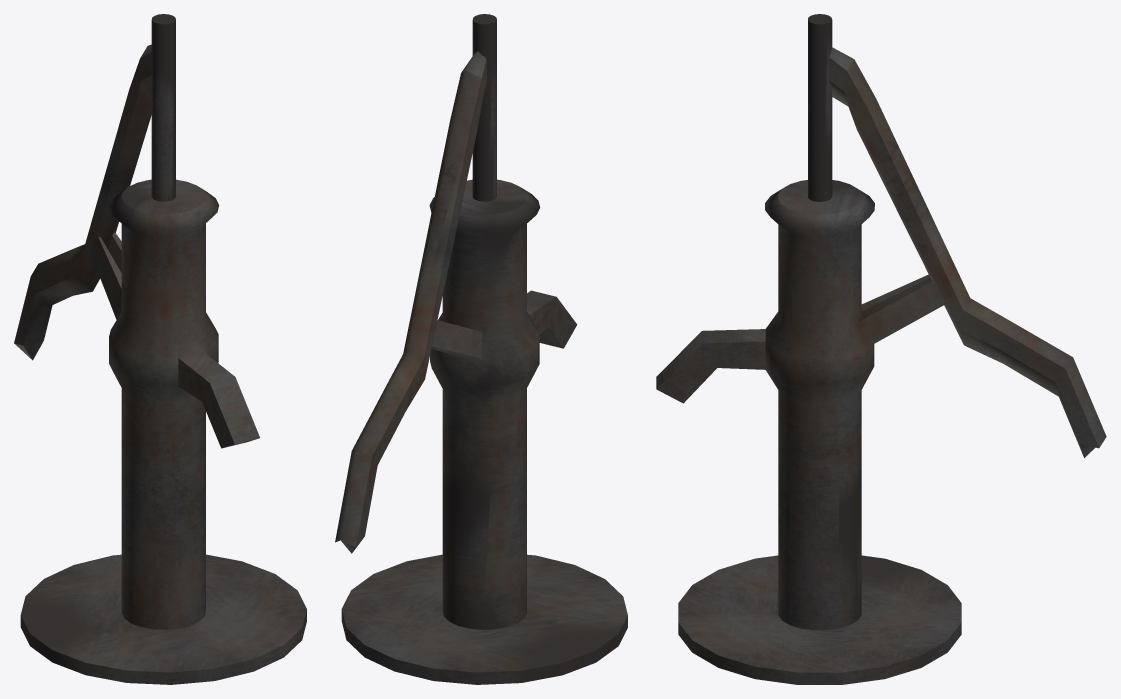
File: wellPump.fbx
The picture shows the model from 3 angles, left to right: view 1: azimuth 30°, elevation 25°; view 2: azimuth 150°, elevation 25°; view 3: azimuth 270°, elevation 25°; orthographic projection.
Visible parts, largest first — view 1: pCylinder4; view 2: pCylinder4; view 3: pCylinder4.
Part boxes in pixels (box(x1,y1,x2,y2)): pCylinder4: box(14, 14, 306, 684); pCylinder4: box(335, 14, 627, 684); pCylinder4: box(656, 14, 1106, 684).
Size of the model in its own units: 9.82 by 23.16 by 15.6.
Materials: 1 (1 with a texture image).
